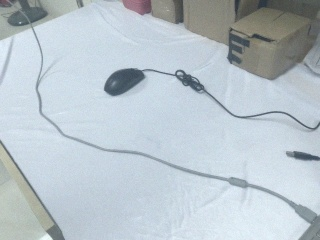box: (226, 2, 314, 79), (182, 1, 265, 47), (151, 1, 184, 24)
mouse: (103, 68, 146, 97)
